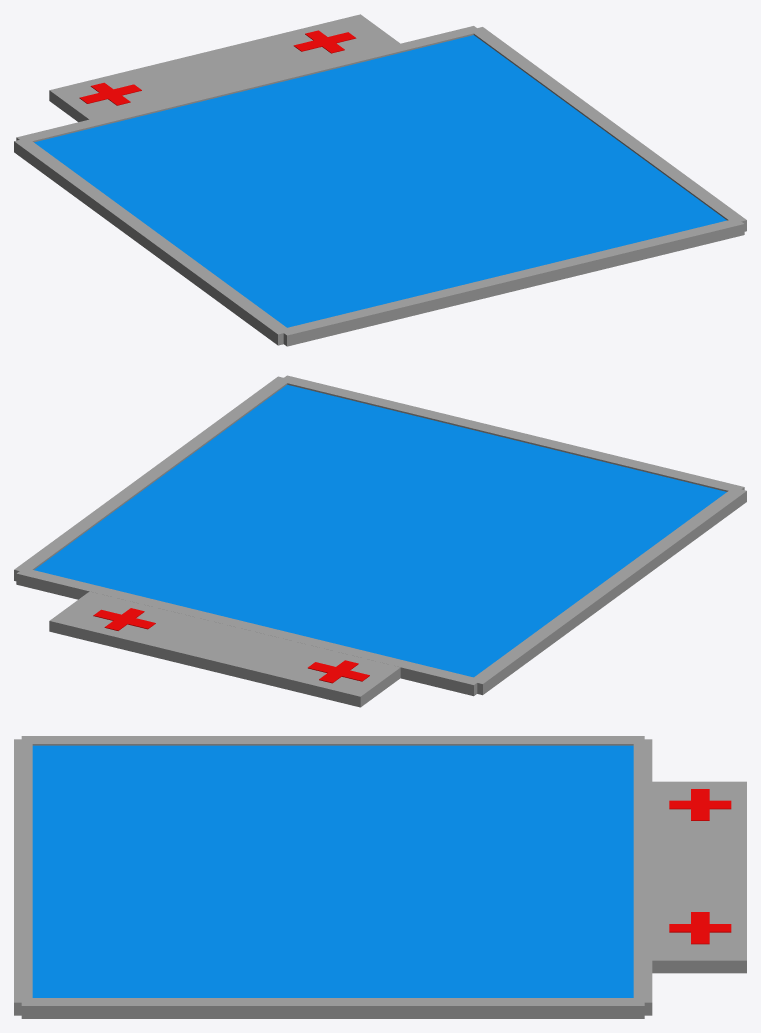
The model's file is battery.fbx.
3 renders of one model, top to bottom at view 1: azimuth 30°, elevation 25°; view 2: azimuth 150°, elevation 25°; view 3: azimuth 270°, elevation 25°, orthographic. The views are drawn at different scales.
Parts seen in each view (by area): view 1: Plane; view 2: Plane; view 3: Plane.
Boxes of the visible parts, x1,y1,x2,y2 form: Plane: (14, 14, 746, 346); Plane: (14, 375, 746, 707); Plane: (14, 736, 746, 1018).
Bounding box in the file's own units: 412 × 9.83 × 473.
5 materials, 5 textured.
